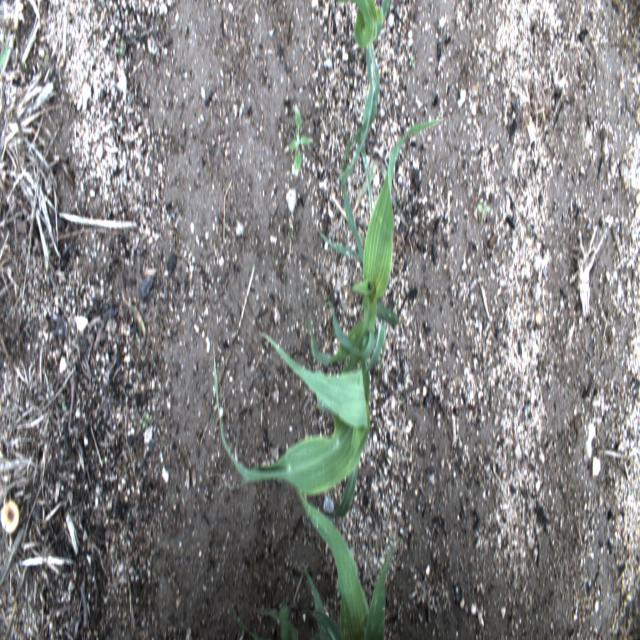crop: (306, 116, 443, 374), (213, 330, 371, 517), (297, 483, 401, 639), (338, 0, 392, 187), (257, 603, 298, 639), (235, 616, 264, 638)
weed: (288, 104, 314, 179), (355, 155, 380, 211), (476, 198, 492, 224), (1, 29, 10, 74), (115, 36, 126, 55), (141, 411, 150, 432), (410, 51, 415, 70), (61, 398, 67, 411)
